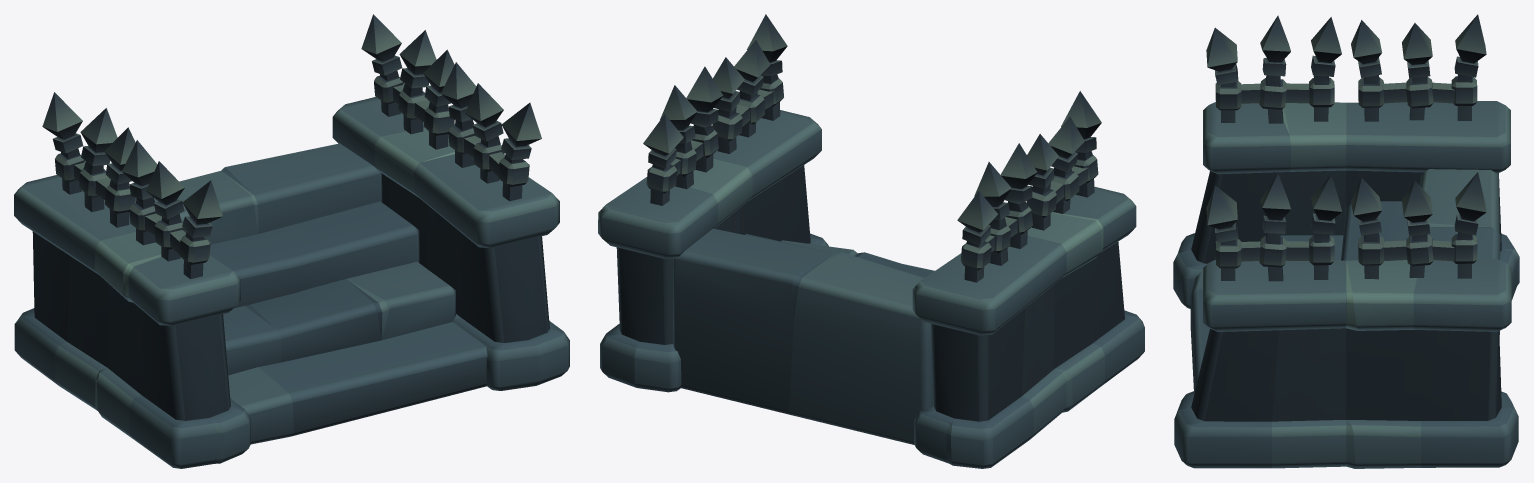
The model's file is stair_set_1.fbx.
3 renders of one model, left to right at view 1: azimuth 30°, elevation 25°; view 2: azimuth 150°, elevation 25°; view 3: azimuth 270°, elevation 25°, orthographic. The views are drawn at different scales.
Visible parts, largest first — view 1: stair_set_1; view 2: stair_set_1; view 3: stair_set_1.
Part boxes in pixels (bbox=[...]): stair_set_1: bbox=[14, 14, 569, 468]; stair_set_1: bbox=[598, 14, 1144, 468]; stair_set_1: bbox=[1173, 14, 1519, 468].
Bounding box in the file's own units: 316 × 204 × 232.
